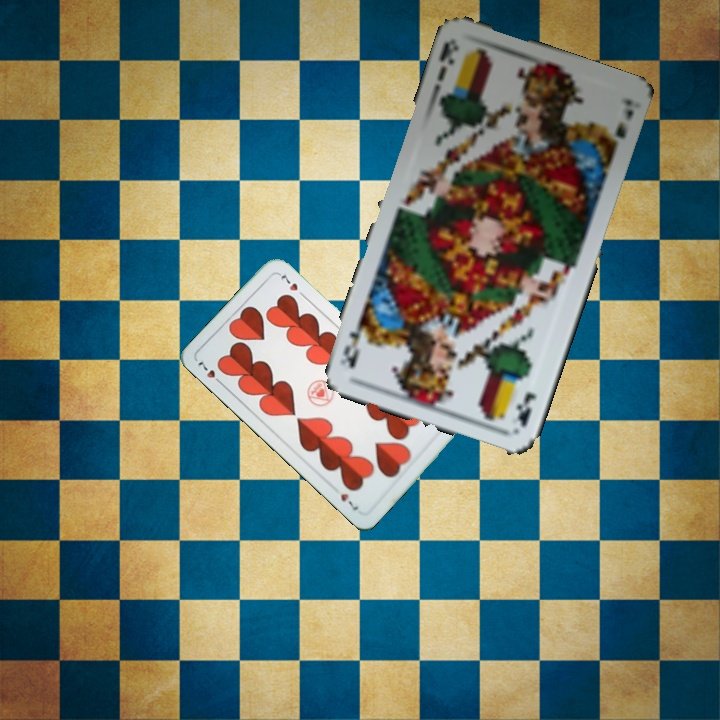EK: (433, 37, 462, 83), (513, 388, 539, 429)
H7: (193, 358, 226, 388)
